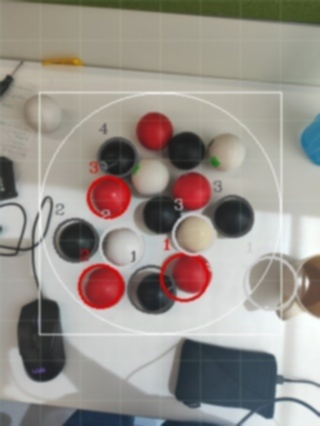Pelota blanca: (241, 252, 297, 320), (169, 212, 217, 254), (100, 225, 145, 267), (271, 387, 320, 425), (295, 252, 320, 320), (204, 132, 243, 174), (23, 92, 62, 134), (129, 158, 169, 198), (0, 201, 28, 256), (297, 110, 320, 168), (236, 409, 281, 425)
Pelota negra: (127, 262, 174, 315), (52, 217, 100, 264), (132, 193, 182, 235), (212, 193, 254, 240), (95, 134, 137, 176), (167, 129, 206, 171)
Pelota roja: (159, 252, 214, 304), (76, 262, 126, 310), (84, 174, 131, 219), (169, 169, 211, 211), (135, 110, 174, 152)
